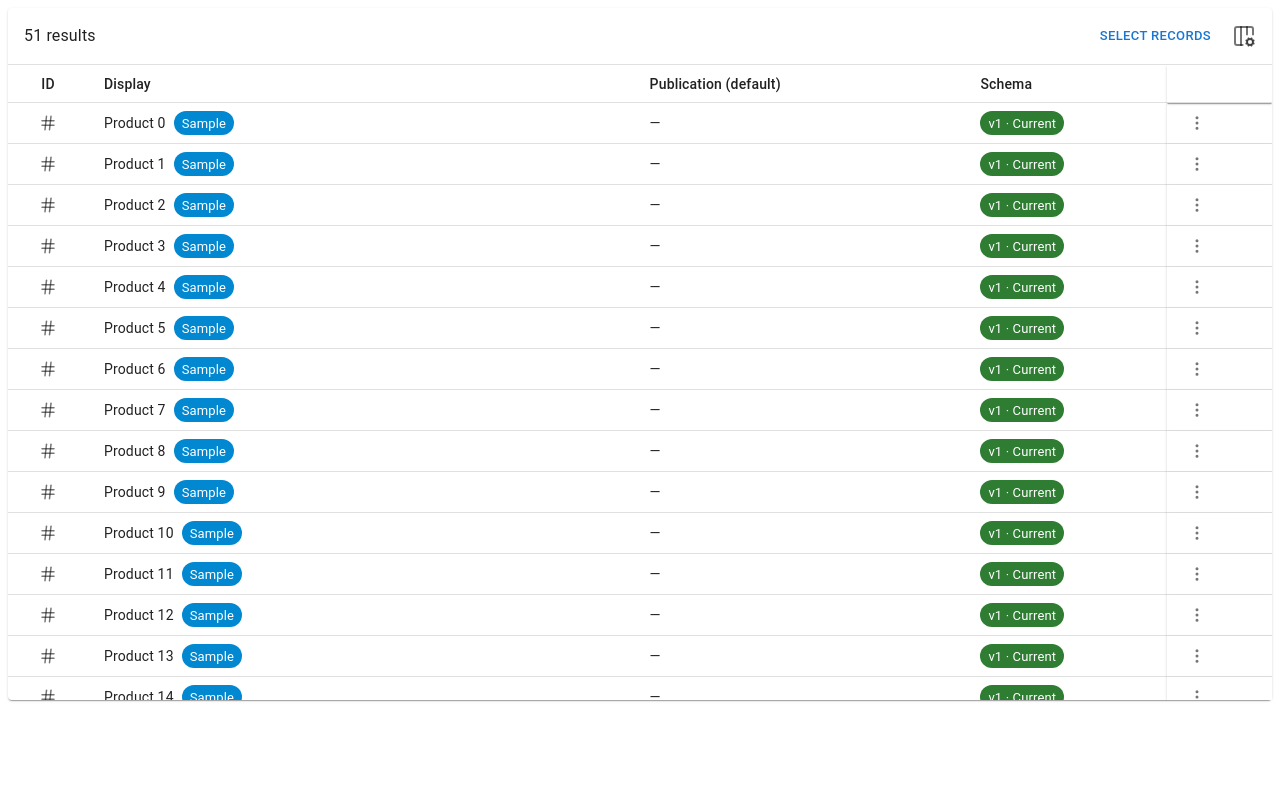
Test: ExplorerResultsTable › limits bulk selection to 50 loaded records
Step 1. Click the button "Select records" → {"x": 1155, "y": 36}, box [1095,21,1216,51]
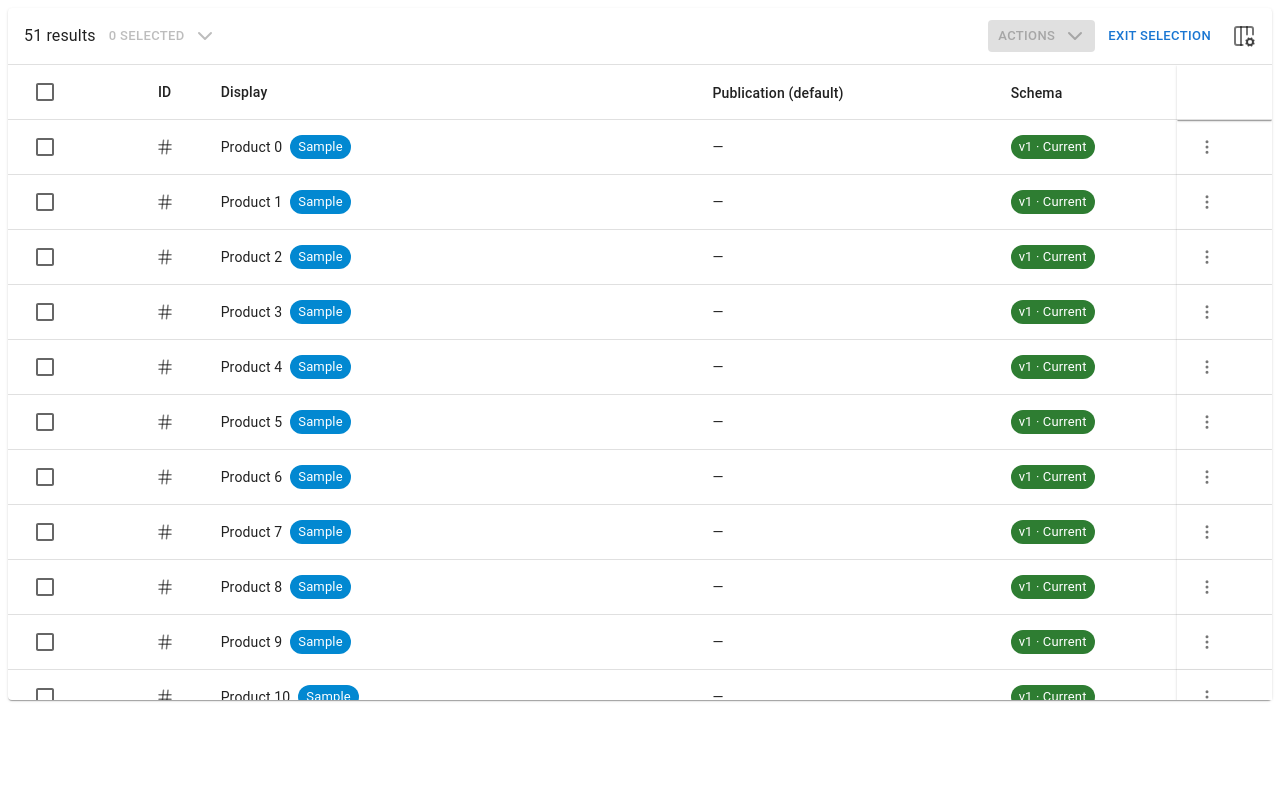
Step 2. Click the checkbox named "Select loaded records (up to 50)" → {"x": 45, "y": 92}, box [33,80,57,104]
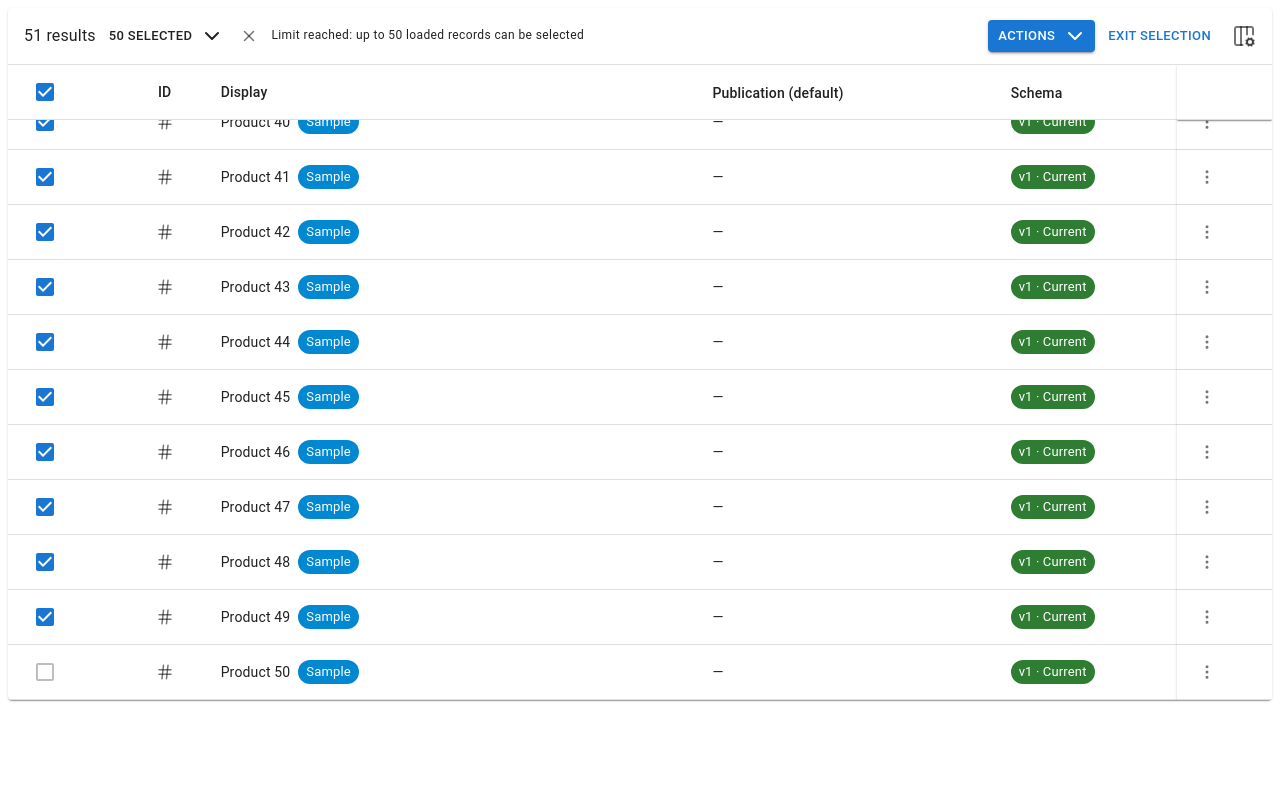
Now the button "50 selected" is shown, box [104,20,228,52]
Now the text "Limit reached: up to 50 loaded records can be selected" is shown, box [271,26,584,46]
Now the checkbox named "Select Product 50" is disabled, box [33,660,57,684]
